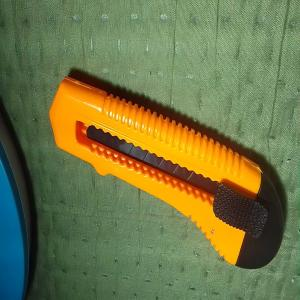estilete: (47, 73, 285, 270)
